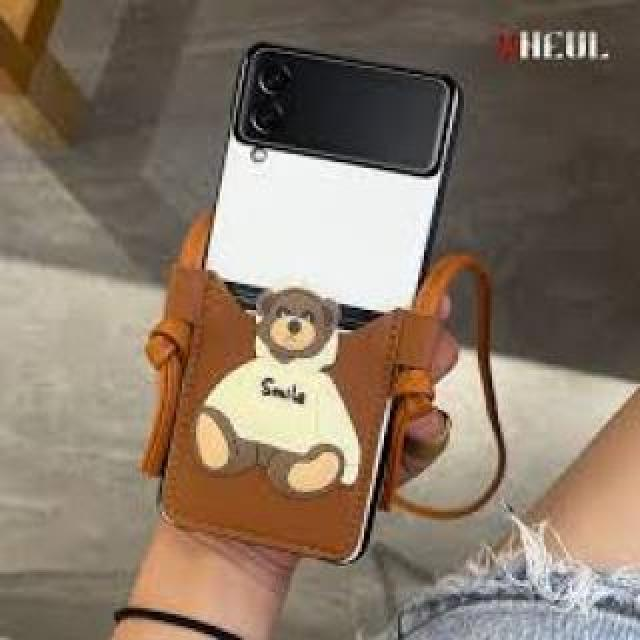smart phone: (178, 23, 460, 597)
